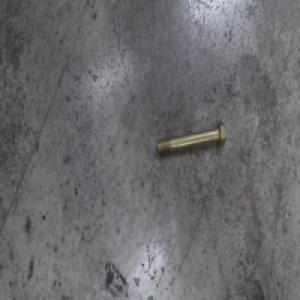Bolt: (156, 119, 225, 157)
